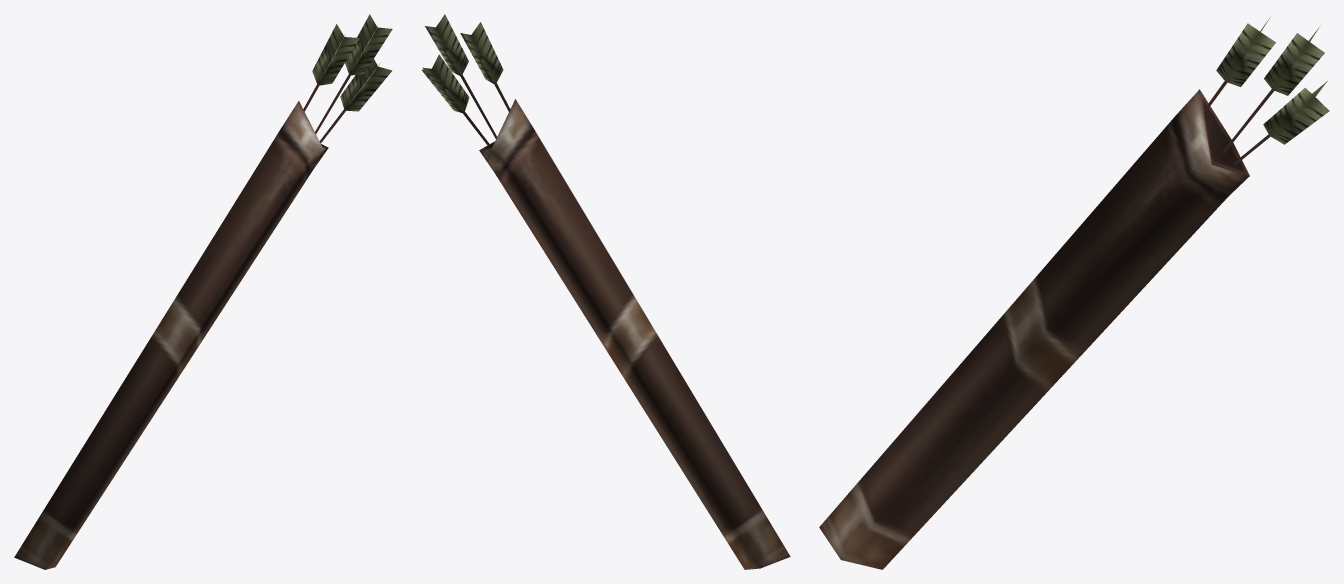
File: Philip_ArrowBox.fbx
3 views of the same model, side by side, from view 1: azimuth 30°, elevation 25°; view 2: azimuth 150°, elevation 25°; view 3: azimuth 330°, elevation 25° (orthographic). The views are drawn at different scales.
Parts seen in each view (by area): view 1: Guard_Harkins; view 2: Guard_Harkins; view 3: Guard_Harkins.
Boxes of the visible parts, <box> form: Guard_Harkins: <box>14,14,392,569</box>; Guard_Harkins: <box>421,14,790,569</box>; Guard_Harkins: <box>819,16,1329,569</box>.
Bounding box in the file's own units: 23.07 × 27.97 × 2.28.
